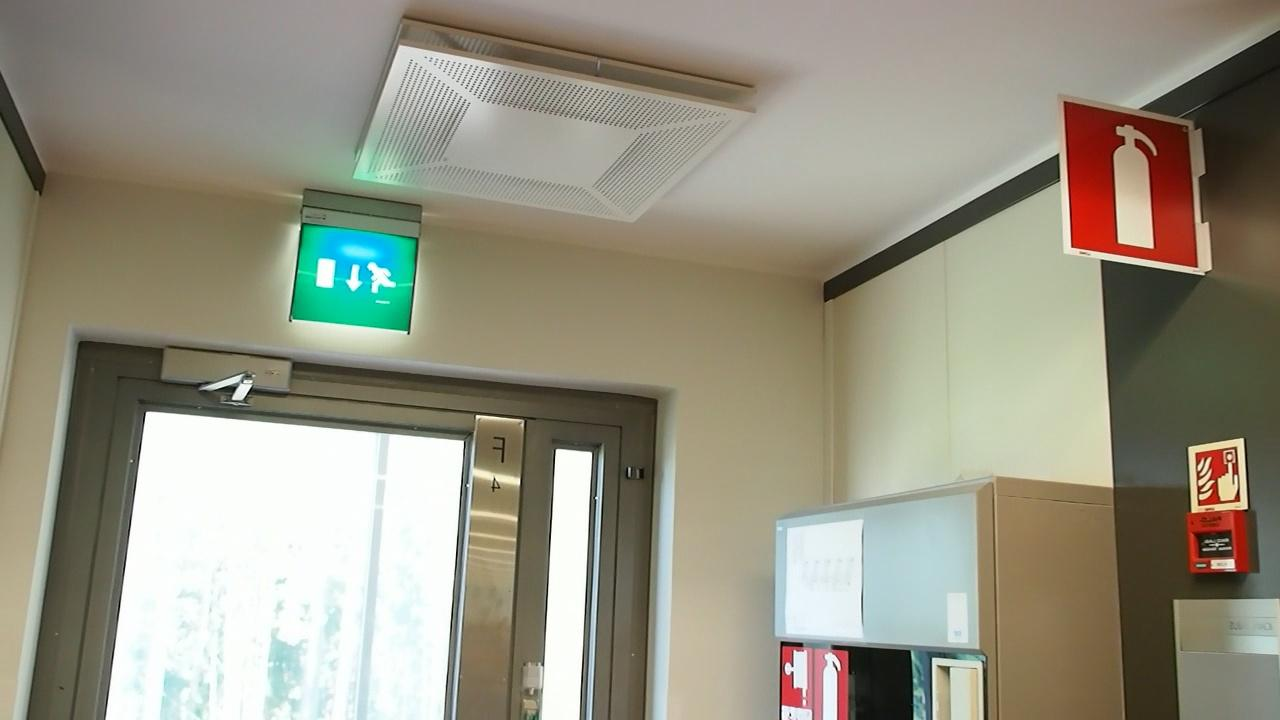exit: (286, 222, 416, 334)
fireextinguisher: (1068, 108, 1201, 264)
